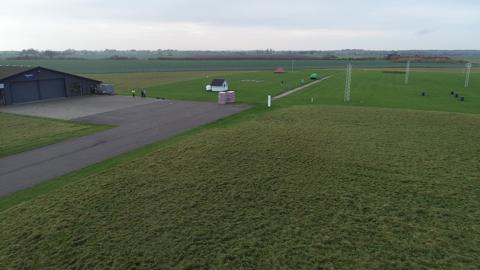RockwoolPallet: (227, 91, 236, 103)
